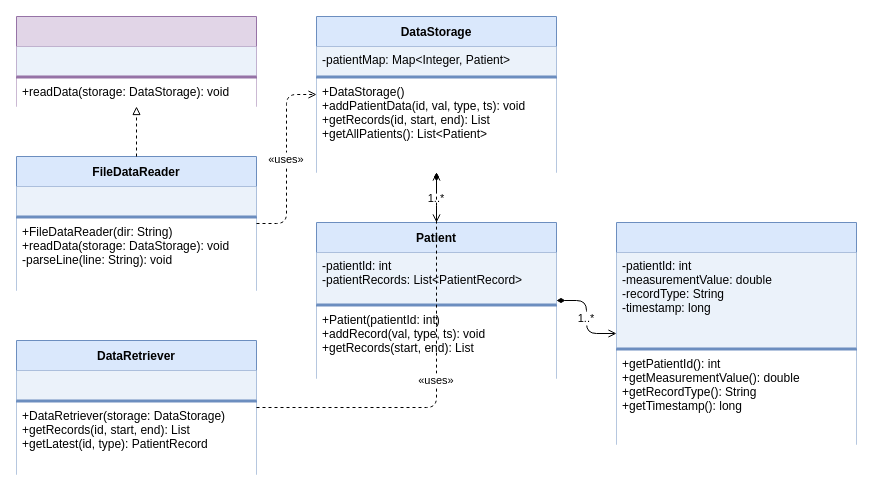
The diagram is 873 pixels wide and 493 high, and some of its shapes have lost their labels. Each missing label, with the box of its shape:
-dataStorage: DataStorage: (16, 370, 256, 400)
-directory: String: (16, 186, 256, 216)
PatientRecord: (616, 222, 856, 444)
«interface» DataReader: (16, 16, 256, 106)
